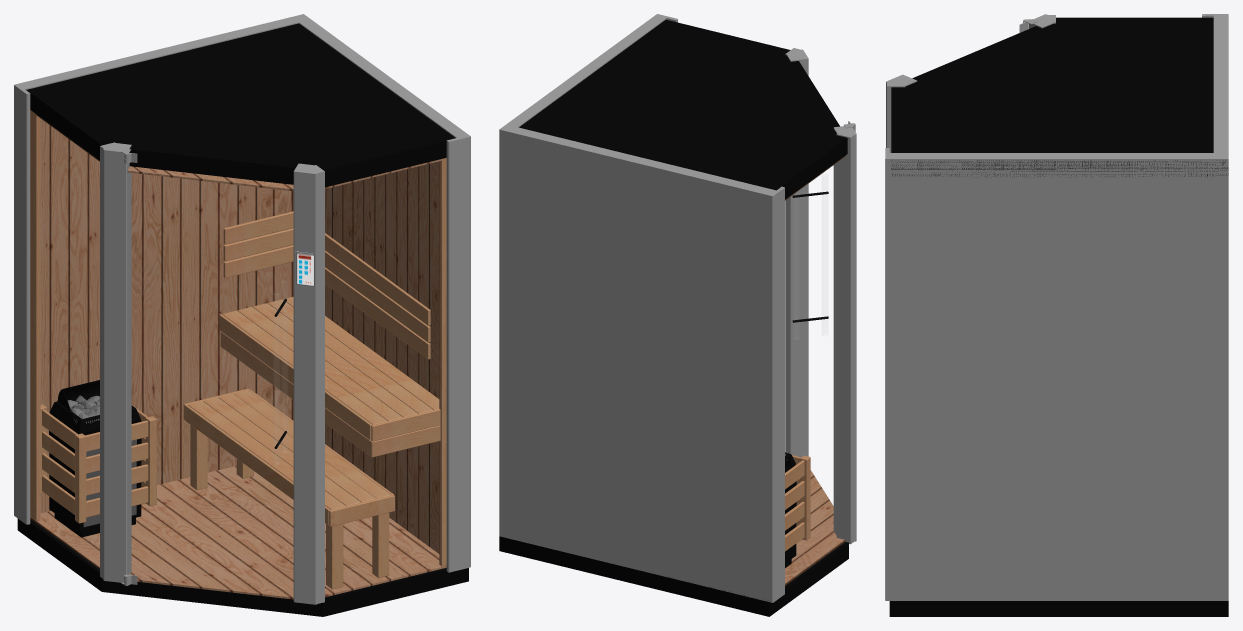
File: sauna.glb
3 views of the same model, side by side, from view 1: azimuth 30°, elevation 25°; view 2: azimuth 150°, elevation 25°; view 3: azimuth 270°, elevation 25° (orthographic). The views are drawn at different scales.
Parts seen in each view (by area): view 1: 3DSMeshMatrix; view 2: 3DSMeshMatrix; view 3: 3DSMeshMatrix.
Part boxes in pixels (left/top/right/bottom): 3DSMeshMatrix: left=14, top=14, right=470, bottom=616; 3DSMeshMatrix: left=499, top=14, right=856, bottom=616; 3DSMeshMatrix: left=885, top=14, right=1228, bottom=616.
Size of what is drawn, in the model's own units: 15500 by 22826 by 15500.
Materials: 10 (3 with a texture image).
